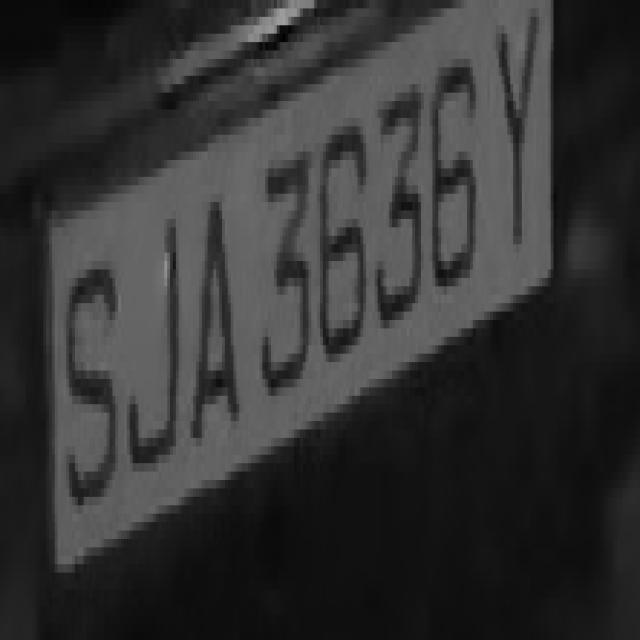3: (254, 126, 314, 404), (369, 59, 427, 337)
6: (305, 92, 372, 370), (418, 33, 481, 294)
A: (185, 160, 245, 463)
J: (119, 194, 188, 472)
S: (43, 245, 124, 548)
Y: (484, 8, 545, 236)
